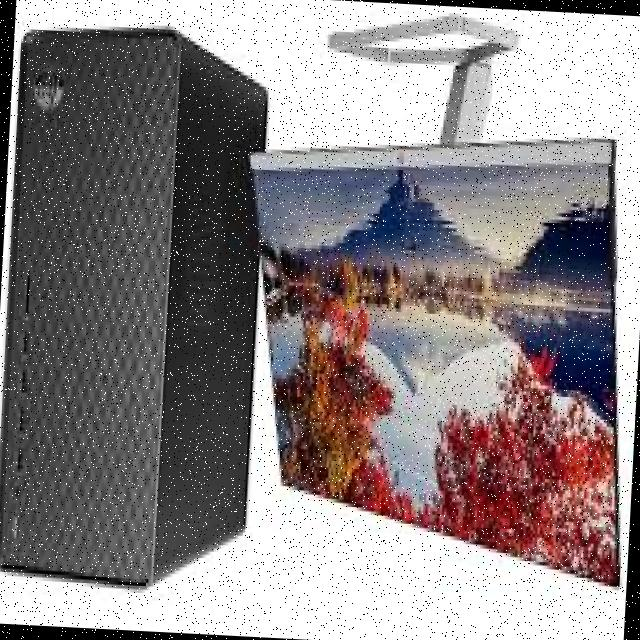Computer: (0, 7, 279, 602)
Monitor: (221, 98, 640, 602)
